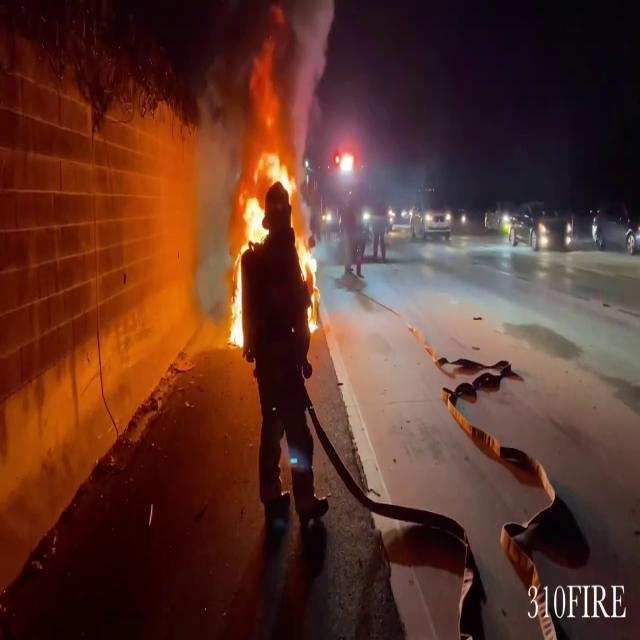Fire: (218, 71, 338, 348)
Smoke: (254, 0, 338, 148)
